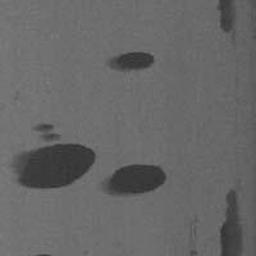Oil spot: (1, 120, 97, 191), (95, 163, 168, 198), (104, 50, 157, 74)
